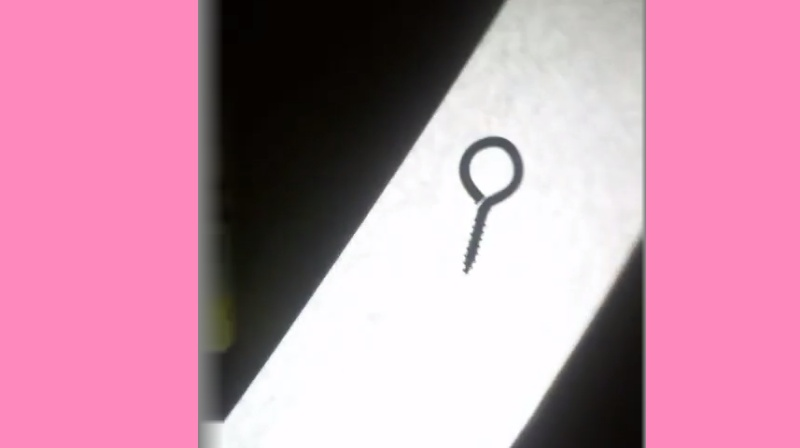O001: (455, 132, 526, 277)
